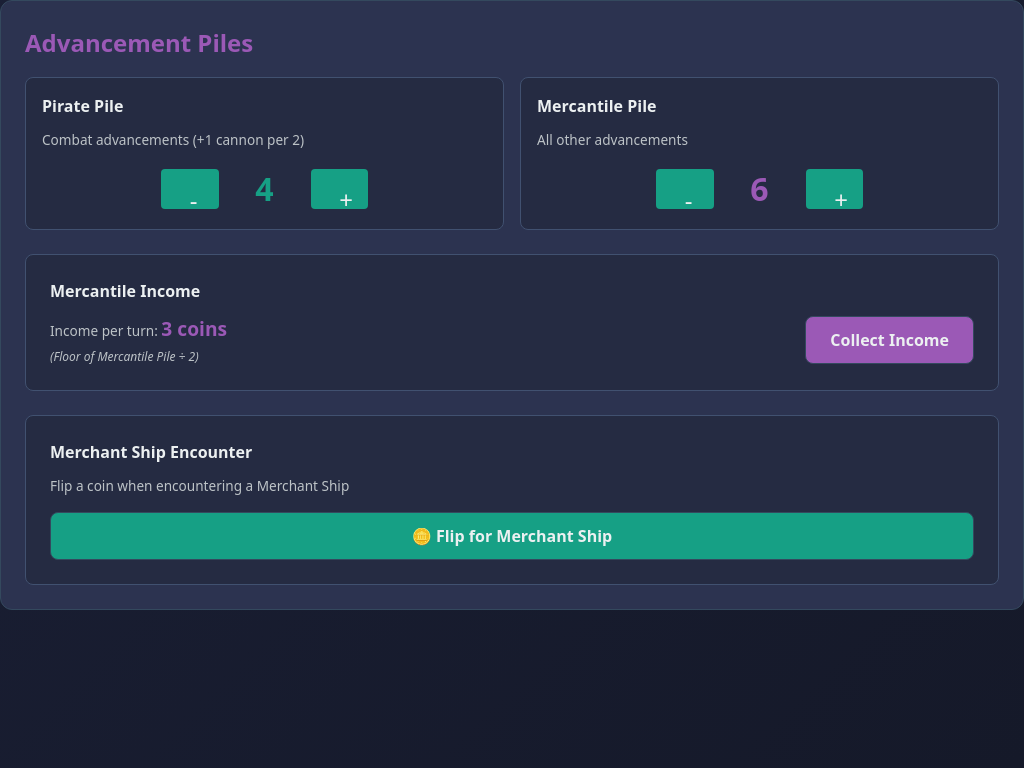
Test: AdvancementPiles › Merchant Ship Flip › hides result modal when cancel clicked
The image size is (1024, 768).
What coordinates should you click on to do the following:
click the button "🪙 Flip for Merchant Ship"
I would click on:
 (512, 536)
Its box is [50,512,974,560].
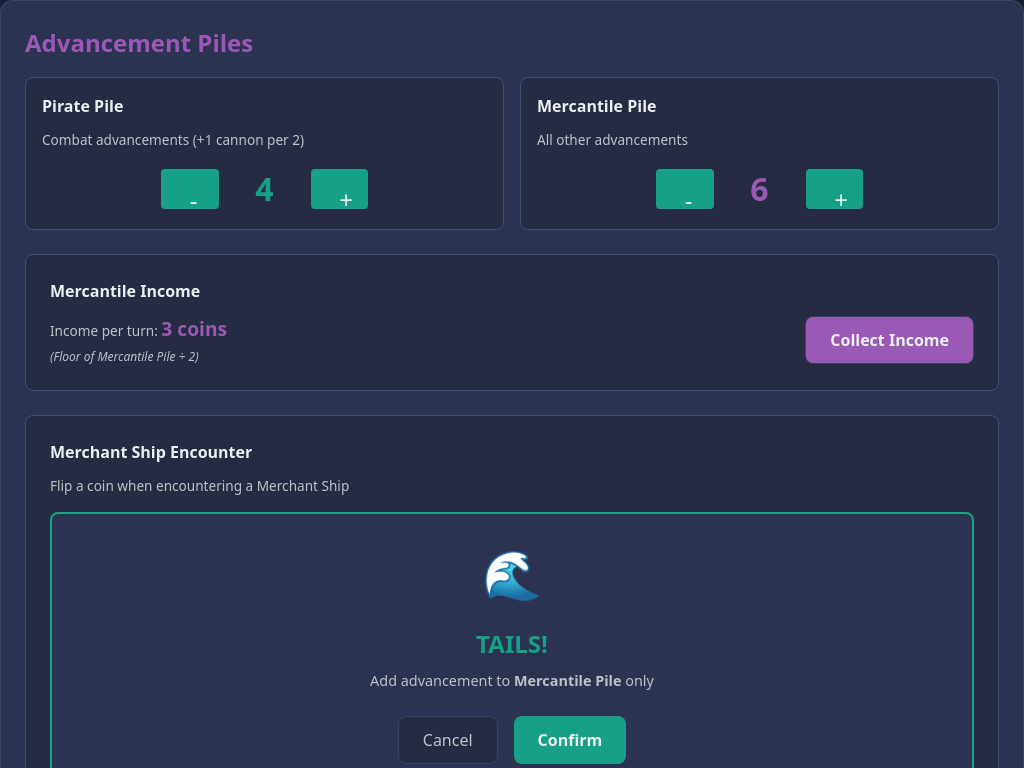
What coordinates should you click on to do the following:
click the button "Cancel"
I would click on:
 (448, 740)
Its box is [398,716,498,764].
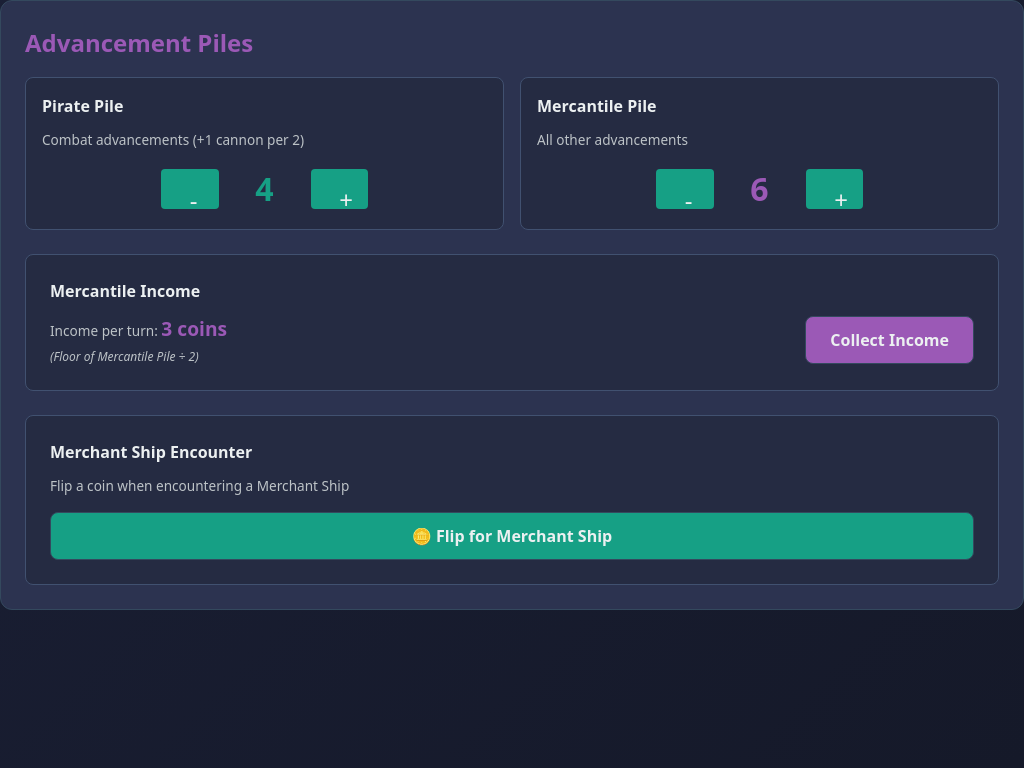
Expected: the text "Tails!" is gone
Expected: the button "🪙 Flip for Merchant Ship" is shown, [50,512,974,560]
